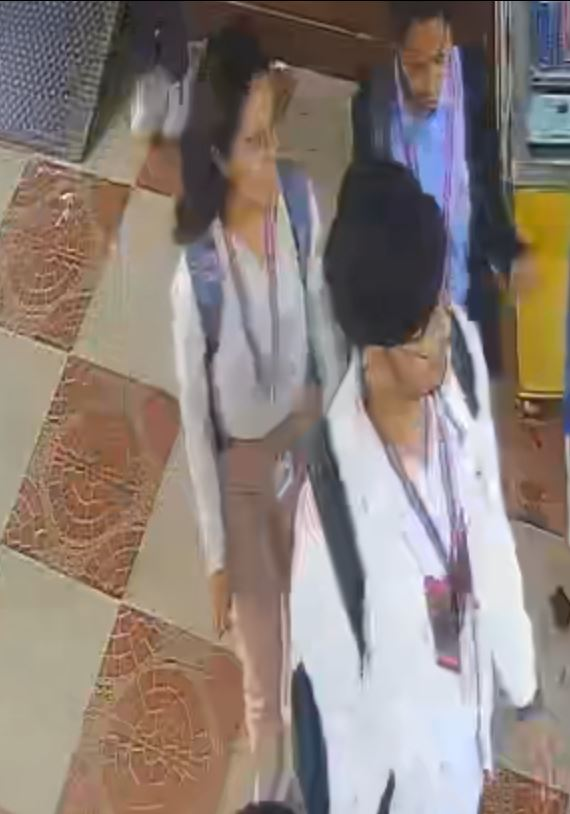intruder: (308, 165, 538, 814), (163, 31, 323, 672), (352, 7, 513, 302)
